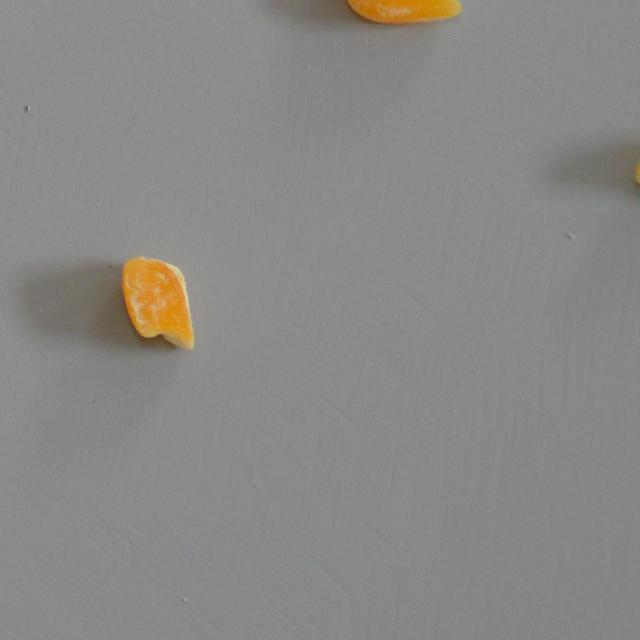dañado: (118, 250, 200, 358), (338, 0, 474, 35)
